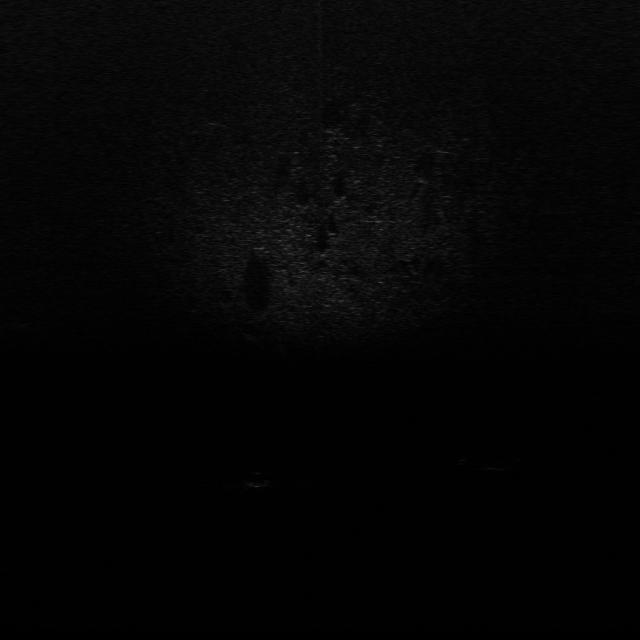ball: (239, 468, 273, 491)
human body: (457, 451, 531, 474)
